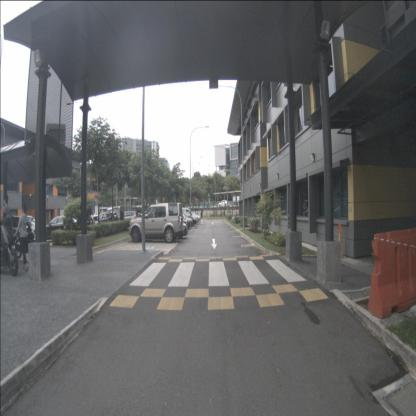barrier: (367, 228, 416, 321)
